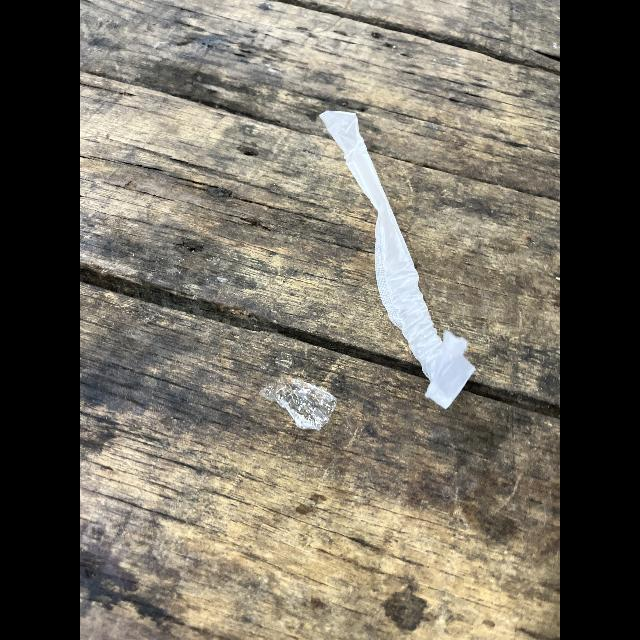scrap_plastic: (318, 107, 476, 405), (267, 368, 343, 429)
